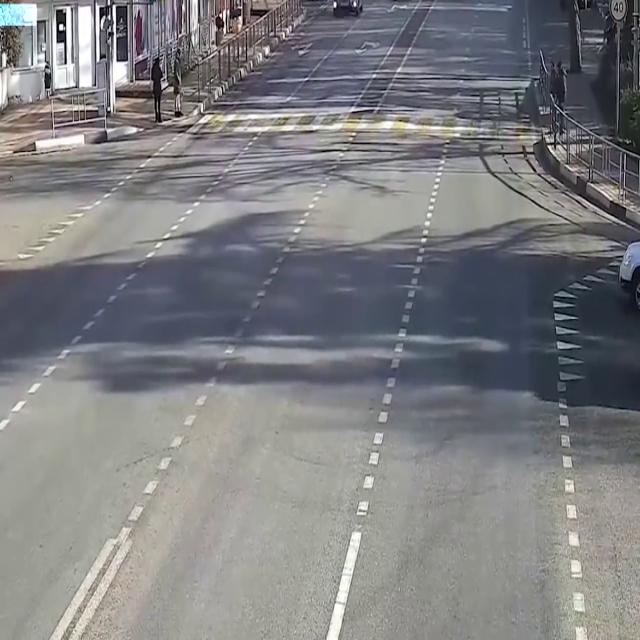noaccident: (103, 0, 613, 503)
